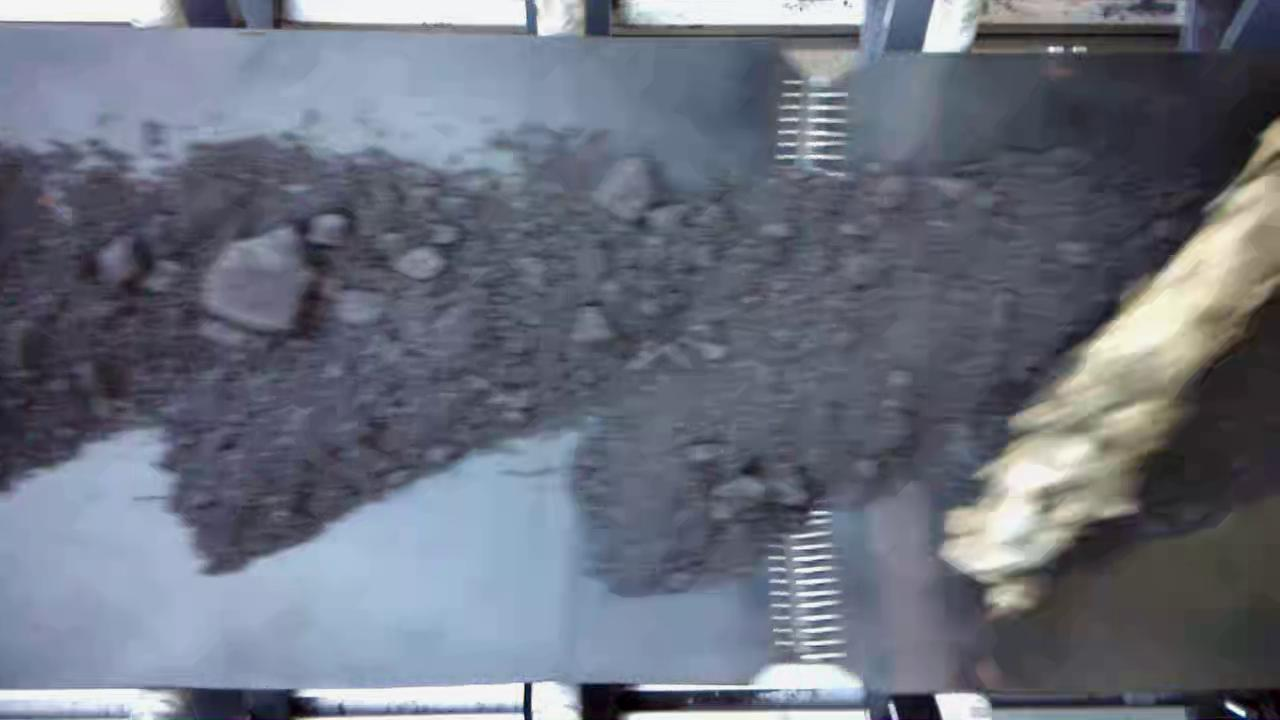conveyor: (5, 59, 1280, 680)
